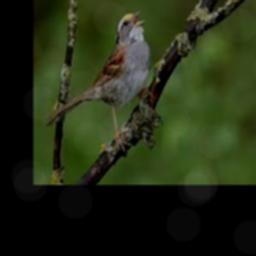Sparrow: (46, 9, 152, 155)
